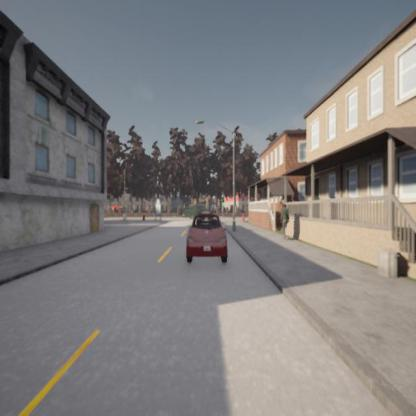person: (281, 204, 290, 235)
vehicle: (184, 214, 228, 264)
